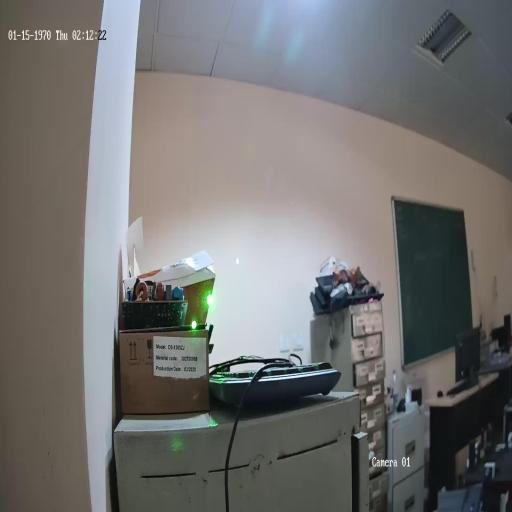laser: (205, 291, 214, 309)
